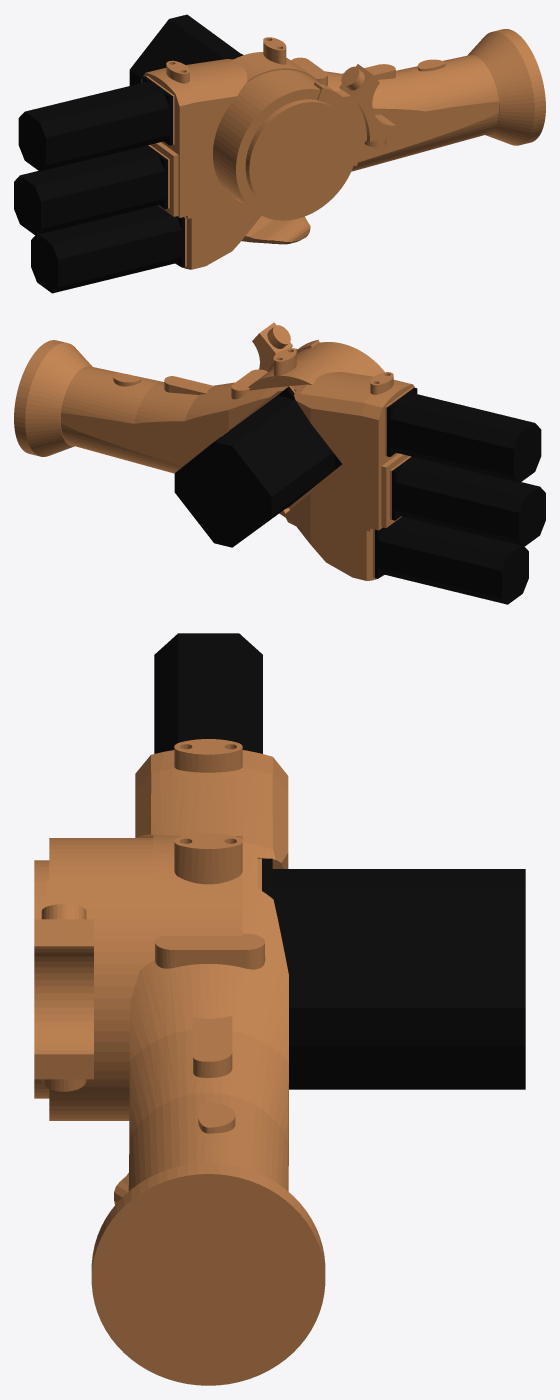
3 views of the same model, one above another, from view 1: azimuth 30°, elevation 25°; view 2: azimuth 150°, elevation 25°; view 3: azimuth 270°, elevation 25° (orthographic). The views are drawn at different scales.
Visible parts, largest first — view 1: Link_3, Link_3_Motor3, Link_3_Motor2, Link_3_Motor1, Link_3_Motor4; view 2: Link_3, Link_3_Motor4, Link_3_Motor3, Link_3_Motor2, Link_3_Motor1; view 3: Link_3, Link_3_Motor4, Link_3_Motor3.
Part boxes in pixels (<box>): Link_3: <box>141,29,545,269</box>; Link_3_Motor3: <box>18,76,172,171</box>; Link_3_Motor2: <box>14,145,167,235</box>; Link_3_Motor1: <box>31,205,184,293</box>; Link_3_Motor4: <box>129,14,243,85</box>; Link_3: <box>14,322,414,580</box>; Link_3_Motor4: <box>174,386,341,547</box>; Link_3_Motor3: <box>387,387,541,482</box>; Link_3_Motor2: <box>392,456,545,546</box>; Link_3_Motor1: <box>375,516,528,604</box>; Link_3: <box>34,739,325,1385</box>; Link_3_Motor4: <box>262,858,525,1089</box>; Link_3_Motor3: <box>154,633,262,753</box>.
Bounding box in the file's own units: 0.7589 × 0.33 × 0.2875.
